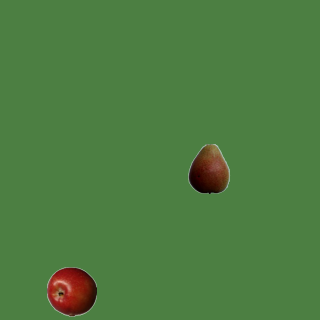Apple Braeburn: (46, 266, 96, 316)
Pear Forelle: (183, 143, 233, 193)
